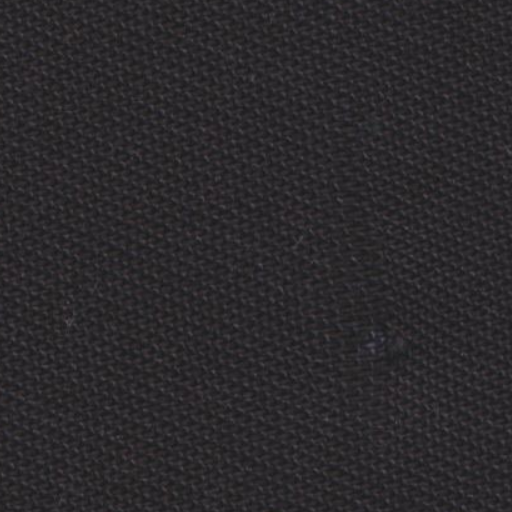PoDong: (341, 290, 416, 382)
